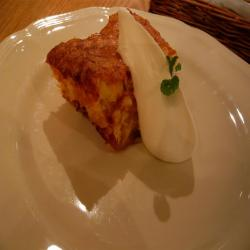apple_pie: (48, 12, 190, 152)
